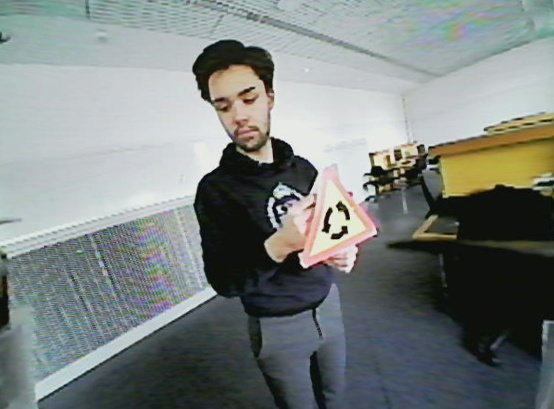roundabout_warning: (292, 164, 382, 269)
